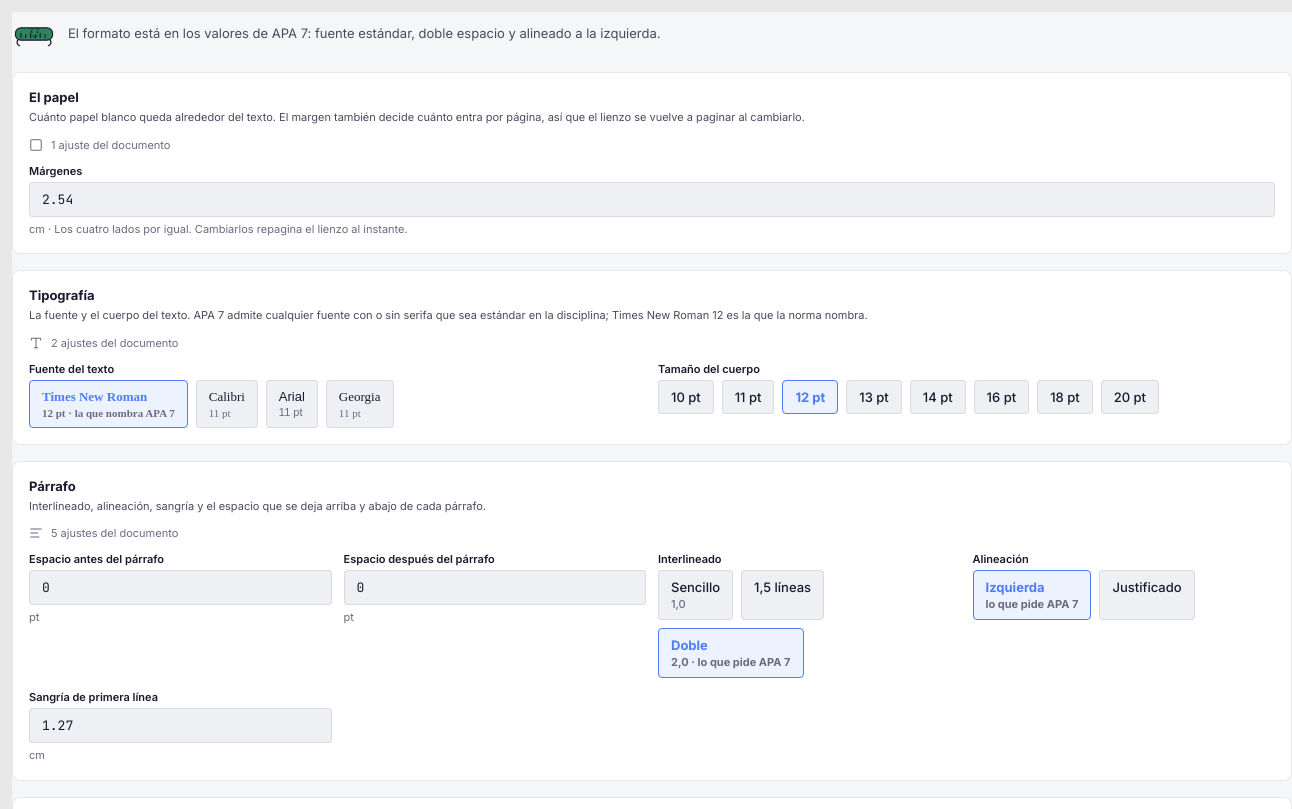
Test case: Formato — restaurar valores por defecto › confirmado, vuelve a los valores de fábrica y DICE cuáles restauró
Click the button "Georgia 11 pt" at (360, 404), box [326,380,394,428]
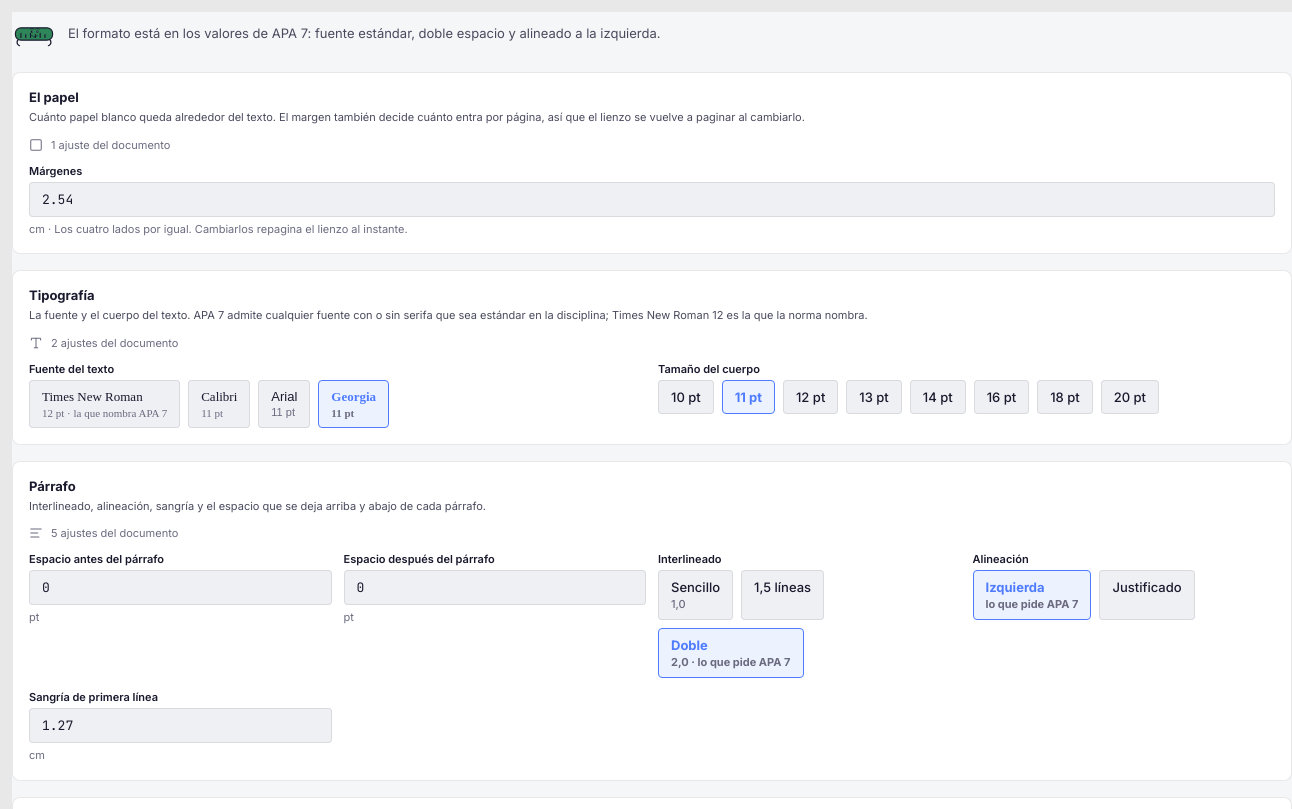
Click the button "Sencillo 1,0" at (696, 595), box [658,570,733,620]
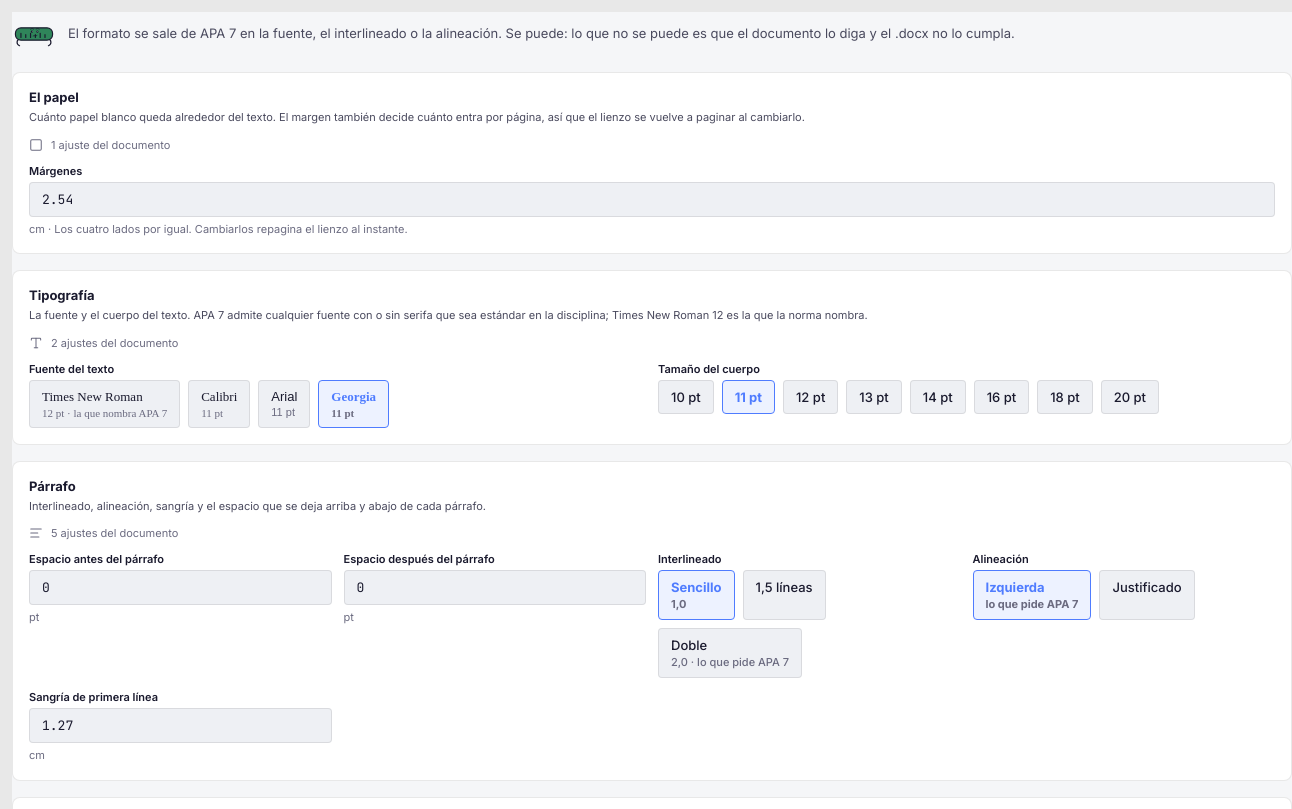
Replace the text in the number field labelled "Márgenes" with "4" at (652, 199), box [29,182,1275,216]
(page scrolled)
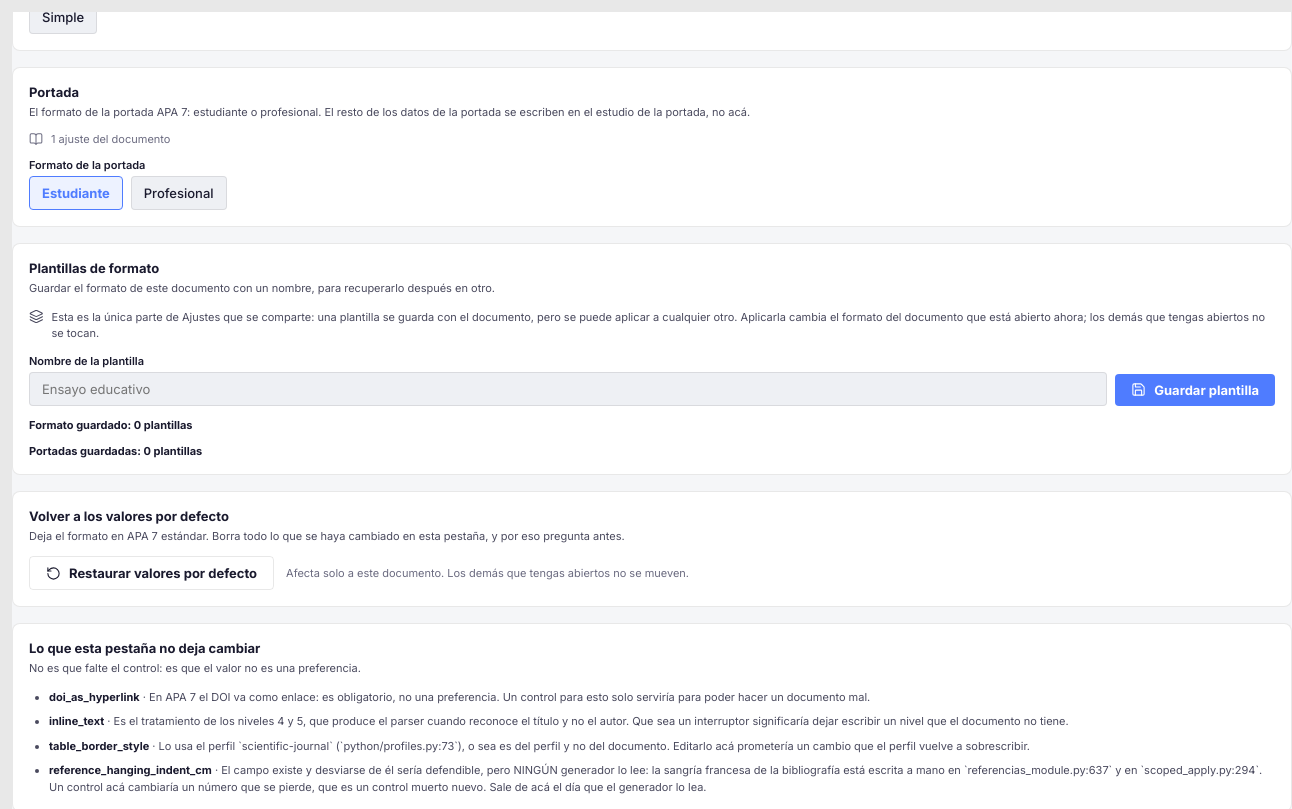
Click the button with test id "boton-restaurar-defecto" at (152, 573), box [29,556,274,590]
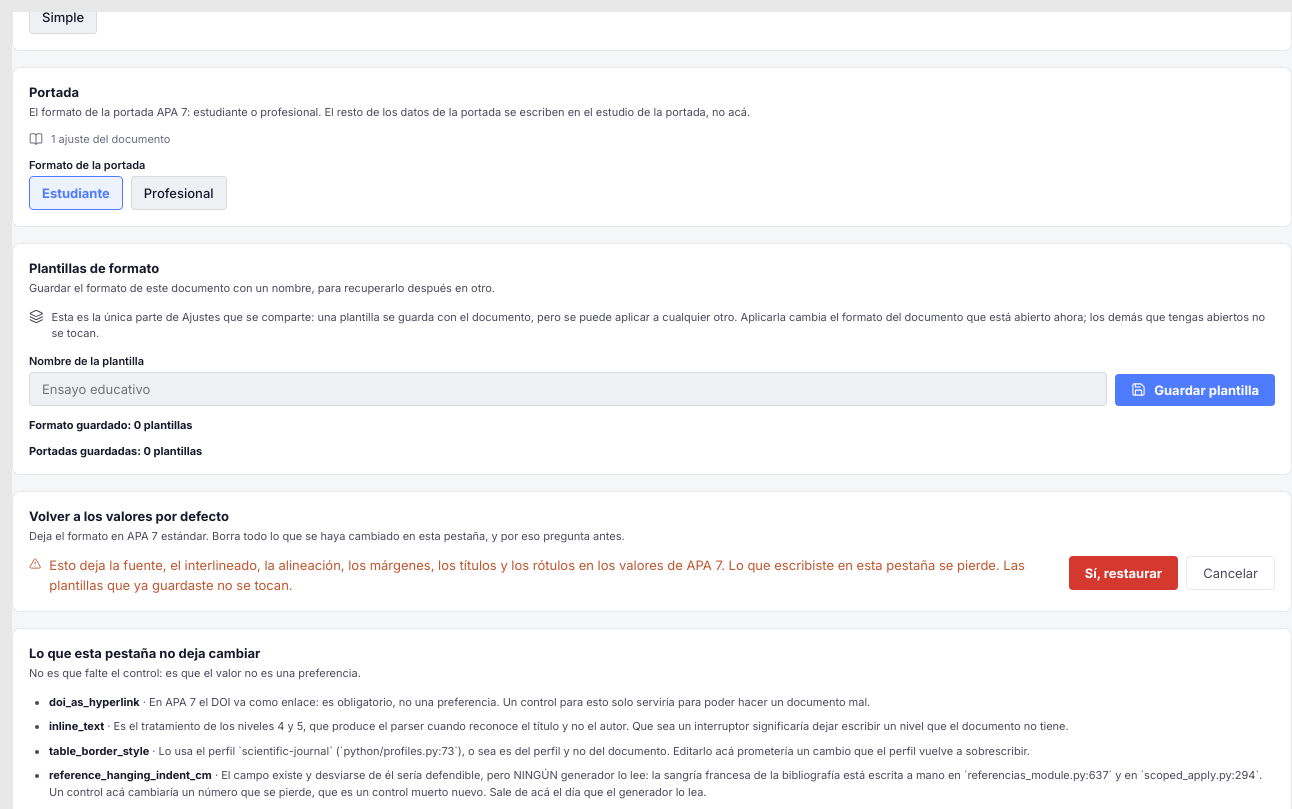
Click the button with test id "boton-confirmar-restaurar" at (1123, 573), box [1069,556,1178,590]
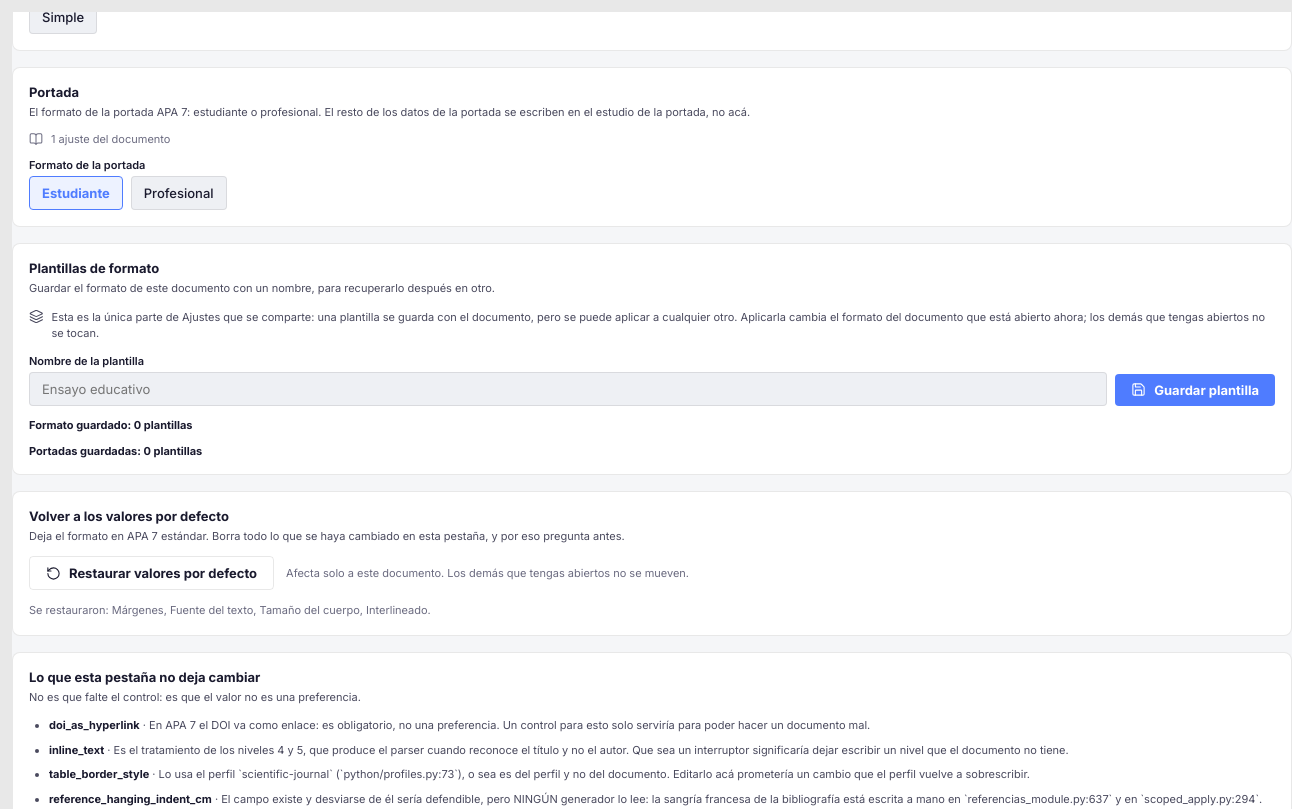
Expected: the text with test id "que-se-restauro" shows "Fuente del texto", [29,603,431,617]
Expected: the text with test id "que-se-restauro" shows "Interlineado", [29,603,431,617]
Expected: the text with test id "que-se-restauro" shows "Márgenes", [29,603,431,617]
